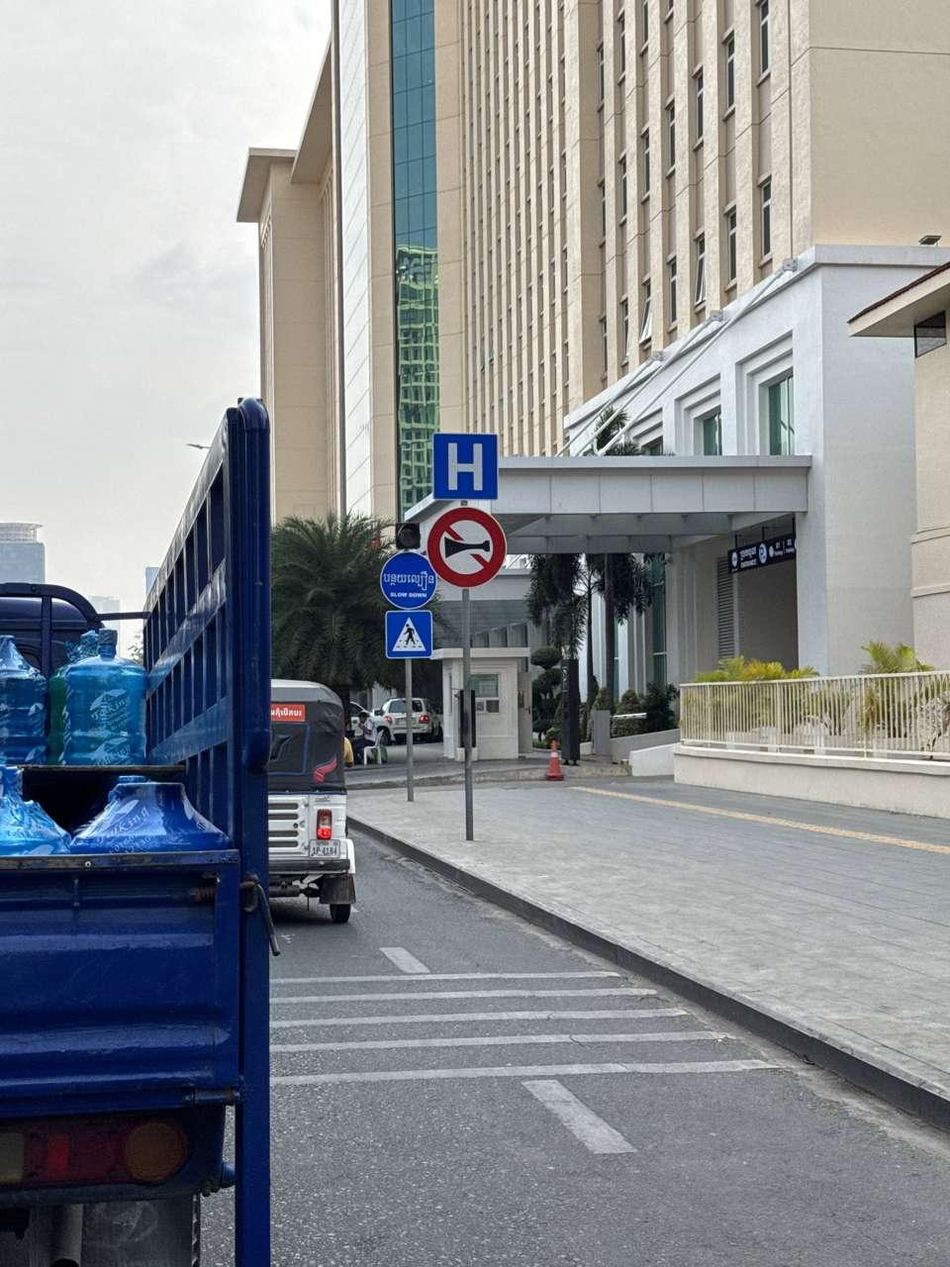hospital: (432, 431, 497, 502)
no_honking: (427, 507, 511, 589)
pedestrian_crossing: (385, 609, 435, 659)
slow_down: (382, 553, 436, 608)
